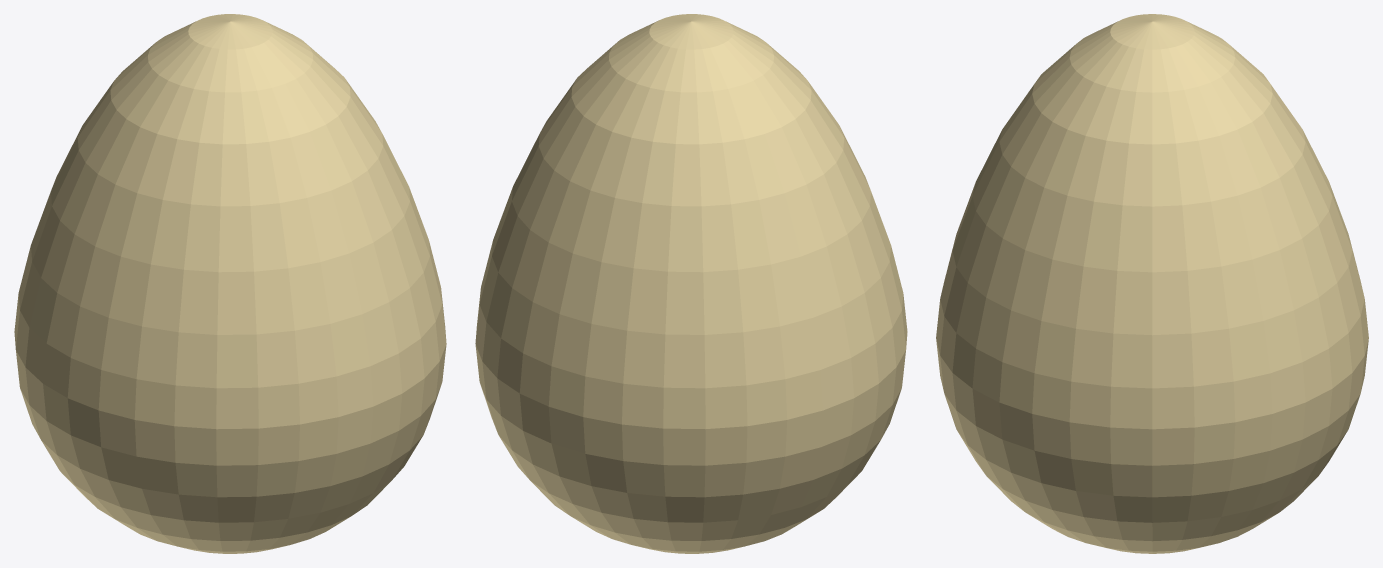
The model's file is tamago.fbx.
3 views of the same model, side by side, from view 1: azimuth 30°, elevation 25°; view 2: azimuth 150°, elevation 25°; view 3: azimuth 270°, elevation 25° (orthographic).
Visible parts, largest first — view 1: 球; view 2: 球; view 3: 球.
Boxes of the visible parts, x1,y1,x2,y2 form: 球: (14, 14, 446, 553); 球: (475, 14, 907, 553); 球: (936, 14, 1368, 553).
Size of the model in its own units: 6 by 7.83 by 6.
